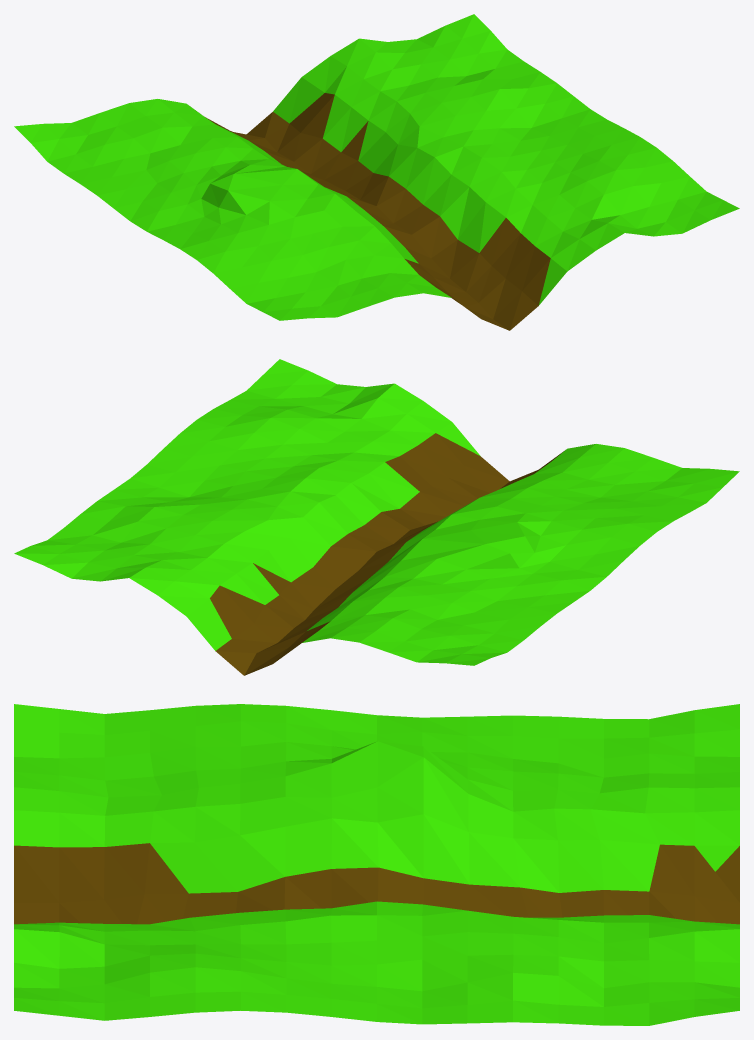
The model's file is oja_right_2.fbx.
3 views of the same model, one above another, from view 1: azimuth 30°, elevation 25°; view 2: azimuth 150°, elevation 25°; view 3: azimuth 270°, elevation 25° (orthographic). The views are drawn at different scales.
Parts seen in each view (by area): view 1: oja_R_2; view 2: oja_R_2; view 3: oja_R_2.
Boxes of the visible parts, x1=… form: oja_R_2: x1=14, y1=14, x2=739, y2=330; oja_R_2: x1=14, y1=359, x2=739, y2=675; oja_R_2: x1=14, y1=704, x2=739, y2=1025.
Size of the model in its own units: 2000 by 330 by 2000.
